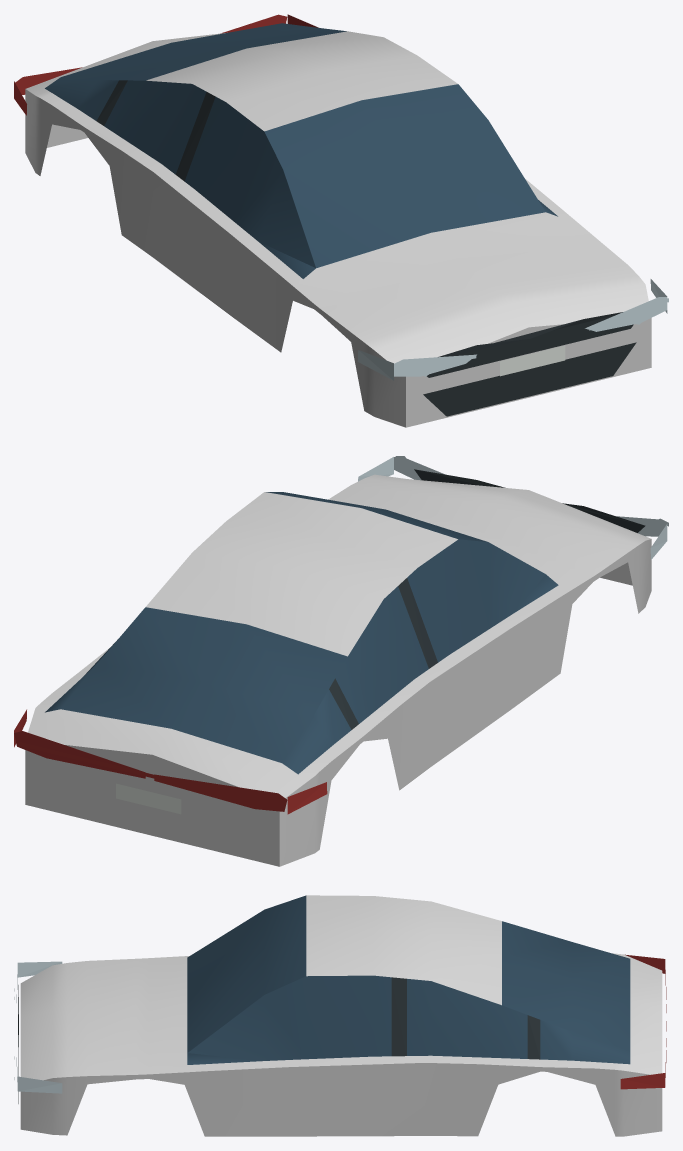
Rendered from veh_k5-lod2.glb.
The picture shows the model from 3 angles, top to bottom: view 1: azimuth 30°, elevation 25°; view 2: azimuth 150°, elevation 25°; view 3: azimuth 270°, elevation 25°; orthographic projection. The views are drawn at different scales.
Parts seen in each view (by area): view 1: paint, glass, trim, head, tail, plate; view 2: paint, glass, tail, trim, head, plate; view 3: paint, glass, trim, head, tail.
Part boxes in pixels (x1,y1,x2,y2): paint: [25, 31, 651, 427]; glass: [45, 23, 557, 278]; trim: [96, 80, 636, 416]; head: [357, 279, 668, 380]; tail: [14, 14, 318, 115]; plate: [500, 345, 565, 376]; paint: [25, 474, 651, 866]; glass: [45, 492, 558, 774]; tail: [14, 709, 327, 814]; trim: [329, 469, 645, 729]; head: [358, 456, 668, 559]; plate: [116, 783, 181, 814]; paint: [20, 895, 662, 1136]; glass: [187, 895, 630, 1064]; trim: [18, 977, 540, 1103]; head: [14, 961, 62, 1093]; tail: [620, 954, 666, 1089].
Size of the model in its own units: 1.47 by 0.815 by 3.24.
